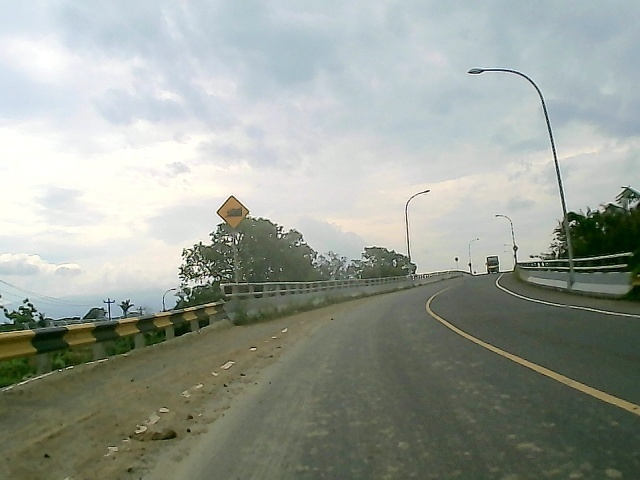Jalanan menanjak: (214, 194, 251, 231)
